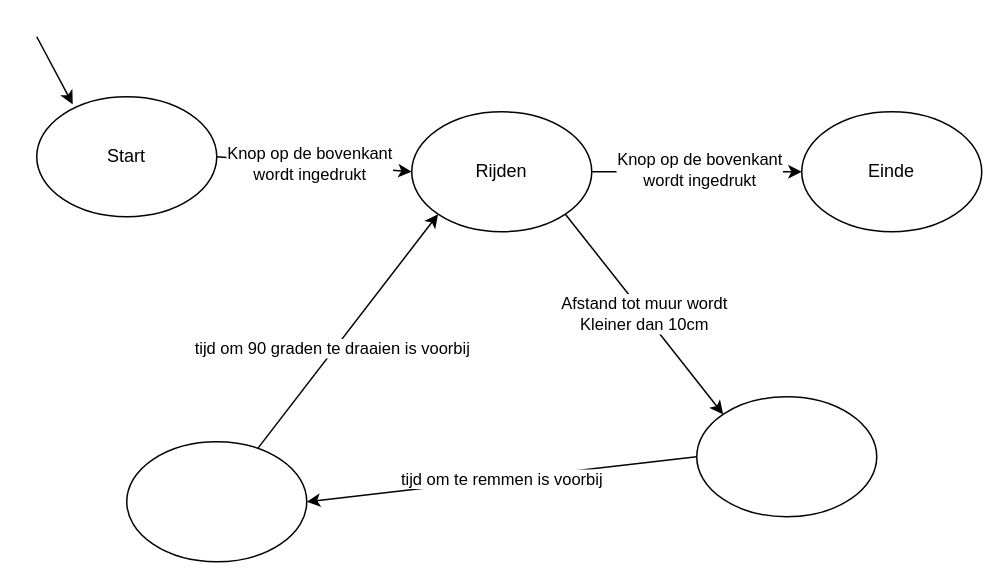
Image size: 1008x588. Some labels were removed from this diagram. Each missing label, with the centre of its shape:
Draaien: the point at 216,501
Stoppen: the point at 786,456
